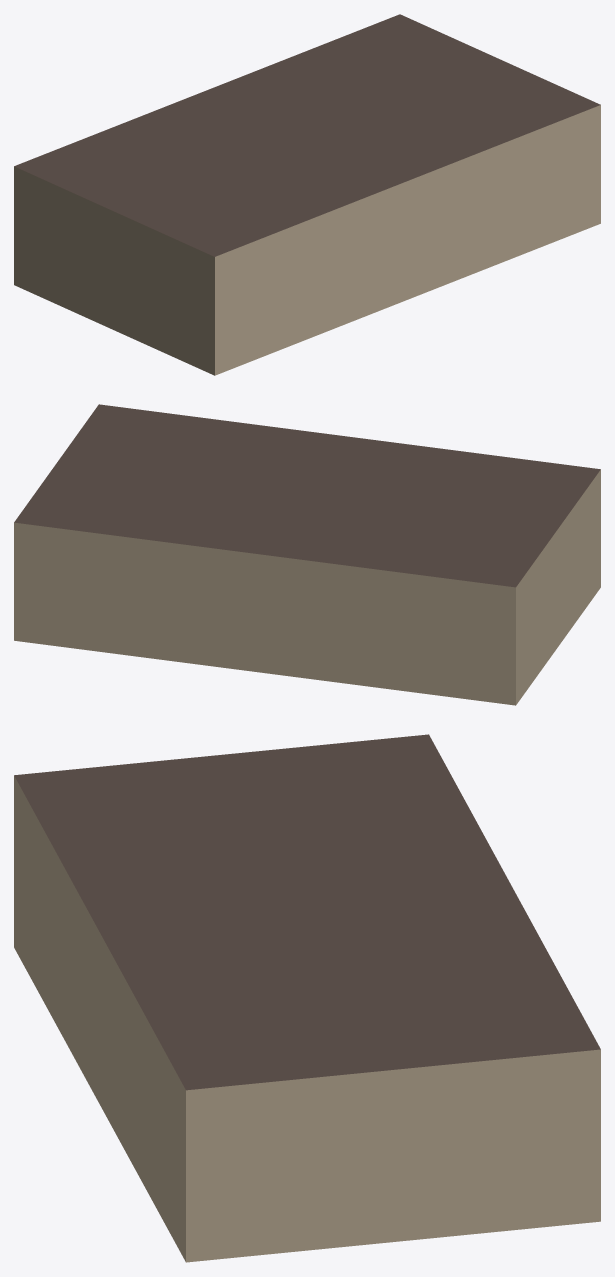
3 views of the same model, one above another, from view 1: azimuth 30°, elevation 25°; view 2: azimuth 150°, elevation 25°; view 3: azimuth 270°, elevation 25° (orthographic). The views are drawn at different scales.
Visible parts, largest first — view 1: HP-w293398926; view 2: HP-w293398926; view 3: HP-w293398926.
Boxes of the visible parts, x1,y1,x2,y2 form: HP-w293398926: (14,14,600,375); HP-w293398926: (14,404,600,705); HP-w293398926: (14,734,600,1262).
Size of the model in its own units: 39.9 by 9 by 27.81.
